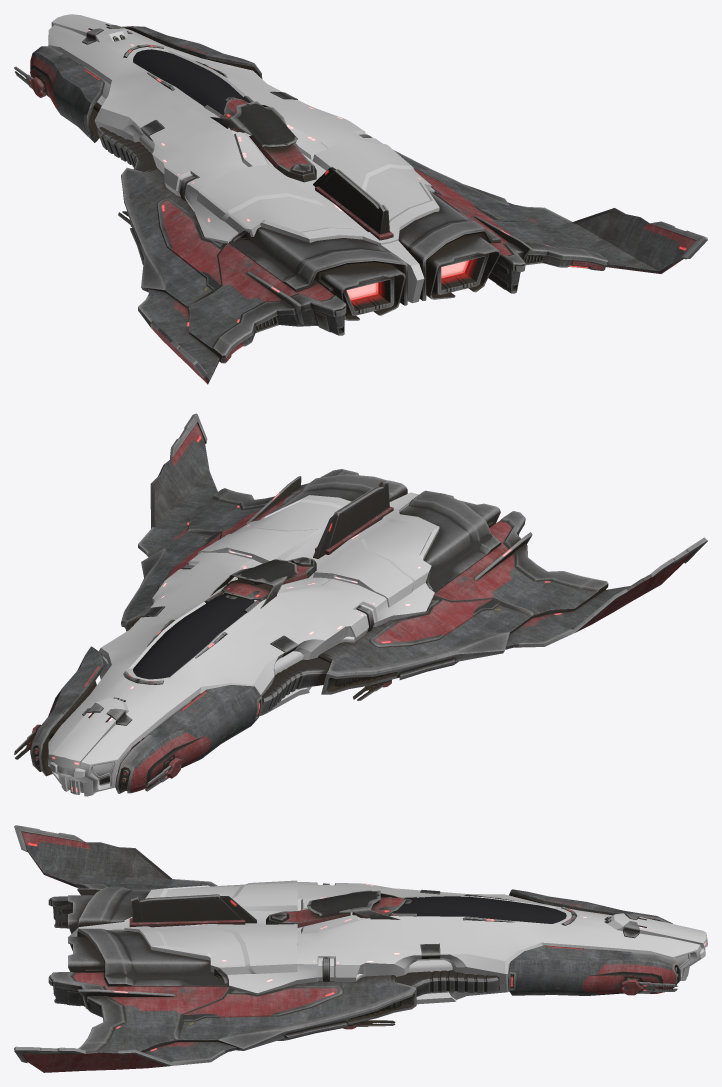
The picture shows the model from 3 angles, top to bottom: view 1: azimuth 30°, elevation 25°; view 2: azimuth 150°, elevation 25°; view 3: azimuth 270°, elevation 25°; orthographic projection. The views are drawn at different scales.
Visible parts, largest first — view 1: Spaceship; view 2: Spaceship; view 3: Spaceship.
Part boxes in pixels (bbox=[...]): Spaceship: bbox=[14, 14, 707, 384]; Spaceship: bbox=[14, 413, 707, 796]; Spaceship: bbox=[14, 825, 707, 1072].
Bounding box in the file's own units: 20.67 × 3.93 × 26.97.
